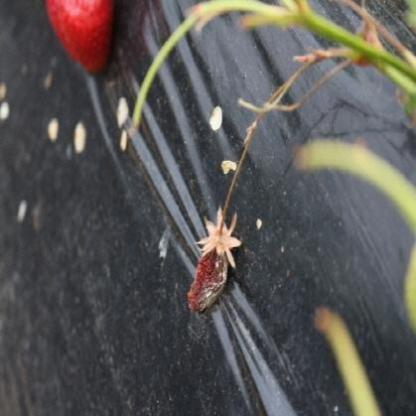Strawberry_Gray_Mold: (186, 207, 242, 313)
